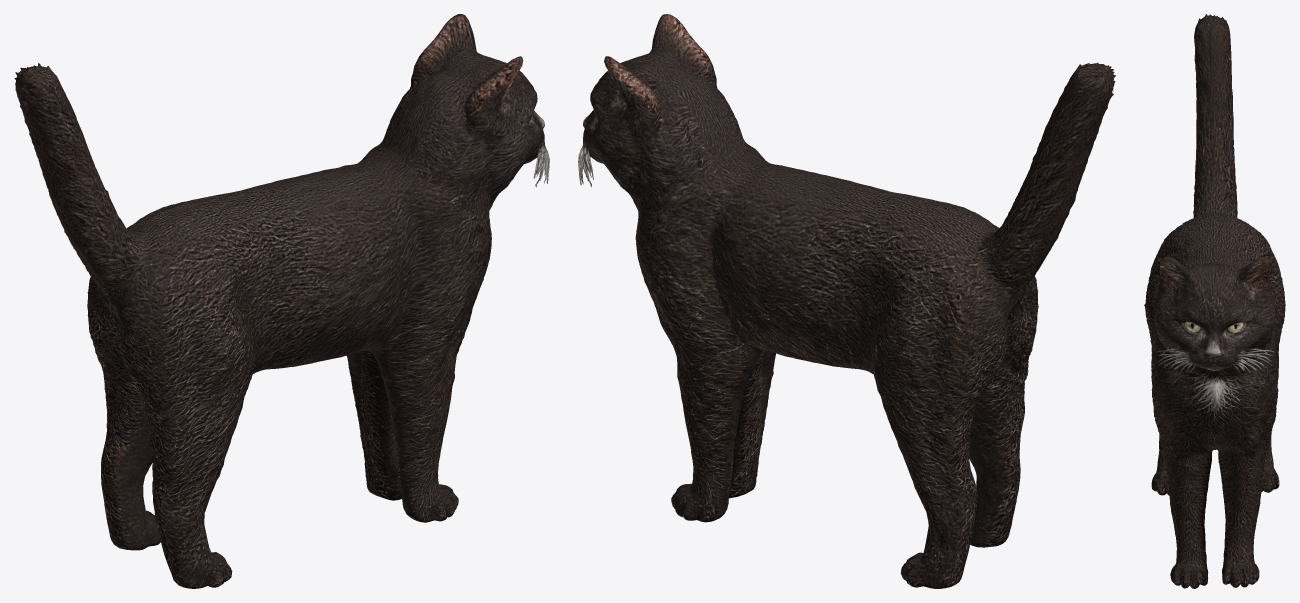
Rendered from MYSADCAT.glb.
3 renders of one model, left to right at view 1: azimuth 30°, elevation 25°; view 2: azimuth 150°, elevation 25°; view 3: azimuth 270°, elevation 25°, orthographic. The views are drawn at different scales.
Parts seen in each view (by area): view 1: tripo_node_3e09a933-d52c-4b06-abd3-55f8c0186d81; view 2: tripo_node_3e09a933-d52c-4b06-abd3-55f8c0186d81; view 3: tripo_node_3e09a933-d52c-4b06-abd3-55f8c0186d81.
Boxes of the visible parts, x1,y1,x2,y2 form: tripo_node_3e09a933-d52c-4b06-abd3-55f8c0186d81: [14, 14, 549, 588]; tripo_node_3e09a933-d52c-4b06-abd3-55f8c0186d81: [578, 14, 1115, 588]; tripo_node_3e09a933-d52c-4b06-abd3-55f8c0186d81: [1144, 14, 1285, 588].
Bounding box in the file's own units: 1.04 × 0.9999 × 0.3075.
1 material, 1 textured.
